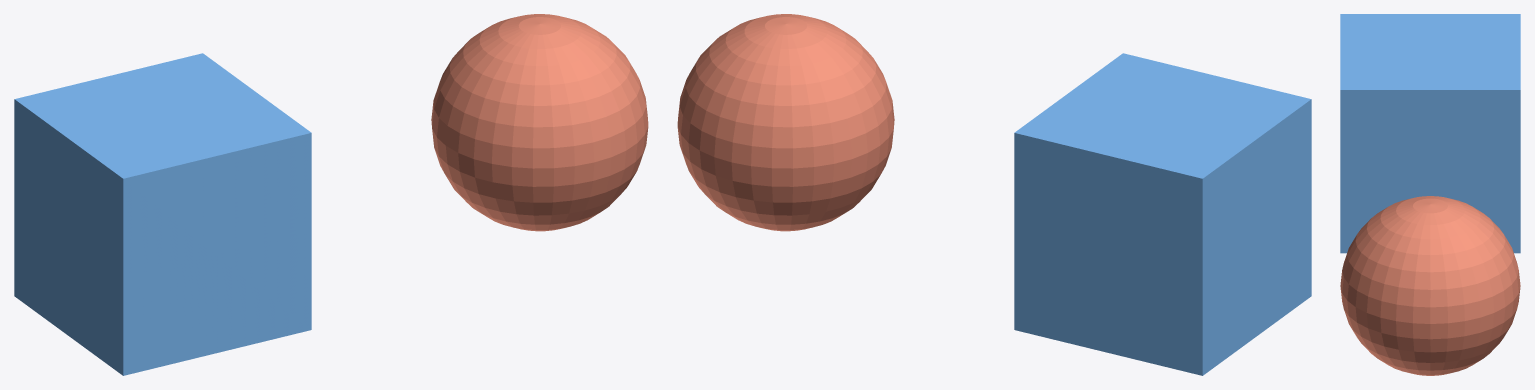
File: hierarchy.glb
3 views of the same model, side by side, from view 1: azimuth 30°, elevation 25°; view 2: azimuth 150°, elevation 25°; view 3: azimuth 270°, elevation 25° (orthographic). The views are drawn at different scales.
Parts seen in each view (by area): view 1: Cube, Sphere; view 2: Cube, Sphere; view 3: Cube, Sphere.
Boxes of the visible parts, bbox=[...] form: Cube: bbox=[14, 53, 311, 375]; Sphere: bbox=[431, 14, 648, 231]; Cube: bbox=[1014, 53, 1311, 375]; Sphere: bbox=[677, 14, 894, 231]; Cube: bbox=[1340, 14, 1520, 253]; Sphere: bbox=[1340, 196, 1520, 375].
Size of the model in its own units: 3 by 1 by 1.
